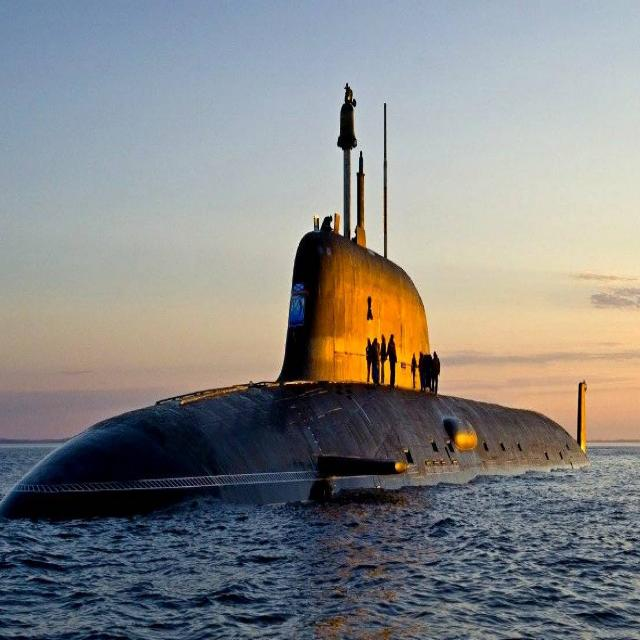submarine: (1, 77, 598, 529)
